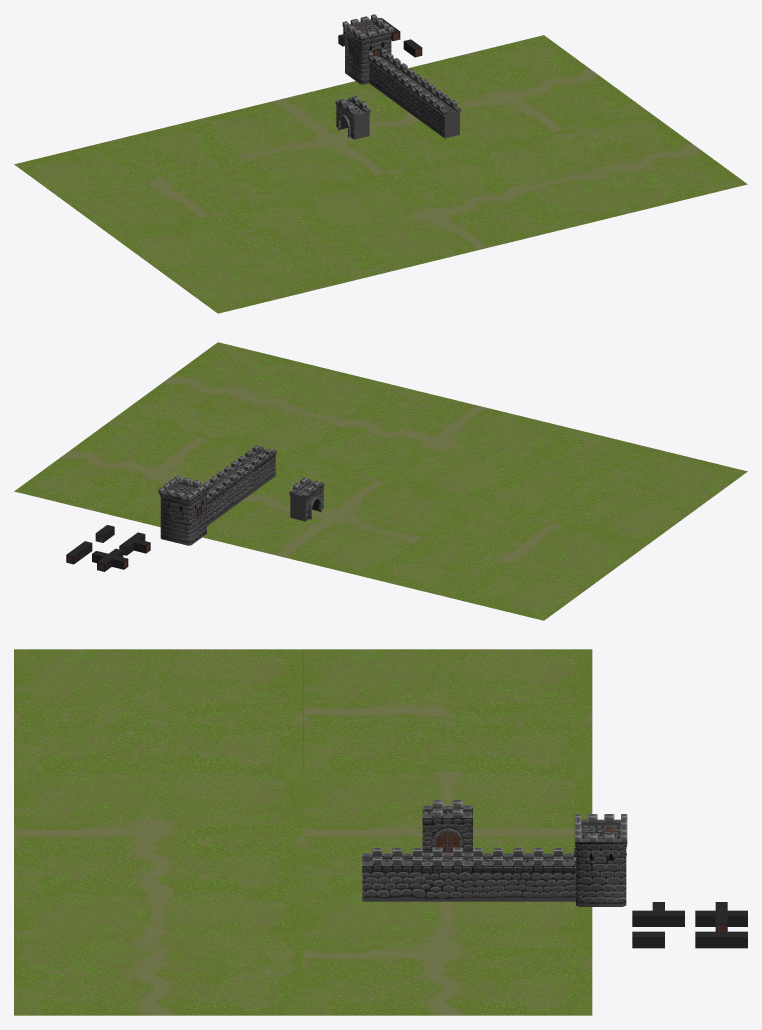
Rendered from Walls Grass and Towers.fbx.
3 views of the same model, one above another, from view 1: azimuth 30°, elevation 25°; view 2: azimuth 150°, elevation 25°; view 3: azimuth 270°, elevation 25° (orthographic). The views are drawn at different scales.
Visible parts, largest first — view 1: Grass Path End, Grass Empty Plain, Grass Turn, Grass Strait, Grass 4 Directions, Grass 3 Directions, Tower 1, Wall 2, Wall 1, Wall Opening, Wall Middle; view 2: Grass Path End, Grass Empty Plain, Grass Turn, Grass Strait, Grass 4 Directions, Grass 3 Directions, Tower 1, Wall Opening, Wall 2, Wall 1, Wall Middle, Tower Doors 4 (+1 smaller); view 3: Grass Path End, Grass Turn, Grass Strait, Grass Empty Plain, Grass 3 Directions, Grass 4 Directions, Wall 2, Tower 1, Wall 1, Wall Middle, Wall Opening, Tower Doors 4 (+2 smaller).
Boxes of the visible parts, x1,y1,x2,y2 form: Grass Path End: (14,121,291,238); Grass Empty Plain: (116,196,393,313); Grass Turn: (293,153,570,270); Grass Strait: (469,110,747,227); Grass 4 Directions: (191,81,468,195); Grass 3 Directions: (407,35,645,152); Tower 1: (342,14,393,84); Wall 2: (368,49,421,109); Wall 1: (422,89,460,138); Wall Opening: (335,95,370,139); Wall Middle: (404,78,435,122); Grass Path End: (367,503,645,620); Grass Empty Plain: (470,428,747,545); Grass Turn: (293,385,570,502); Grass Strait: (116,342,394,459); Grass 4 Directions: (202,460,468,577); Grass 3 Directions: (14,417,291,527); Tower 1: (158,475,208,545); Wall Opening: (289,477,324,521); Wall 2: (205,471,237,525); Wall 1: (238,445,276,491); Wall Middle: (224,460,255,504); Tower Doors 4: (92,548,128,571); Grass Path End: (303,649,592,771); Grass Turn: (14,771,302,893); Grass Strait: (14,893,302,1015); Grass Empty Plain: (14,649,302,771); Grass 3 Directions: (303,893,592,1015); Grass 4 Directions: (303,771,592,893); Wall 2: (473,847,575,901); Tower 1: (574,814,627,906); Wall 1: (362,847,422,901); Wall Middle: (422,847,472,901); Wall Opening: (422,800,472,853); Tower Doors 4: (695,902,747,931).
Bounding box in the file's own units: 6900 × 685 × 5839.
Materials: 4 (3 with a texture image).
